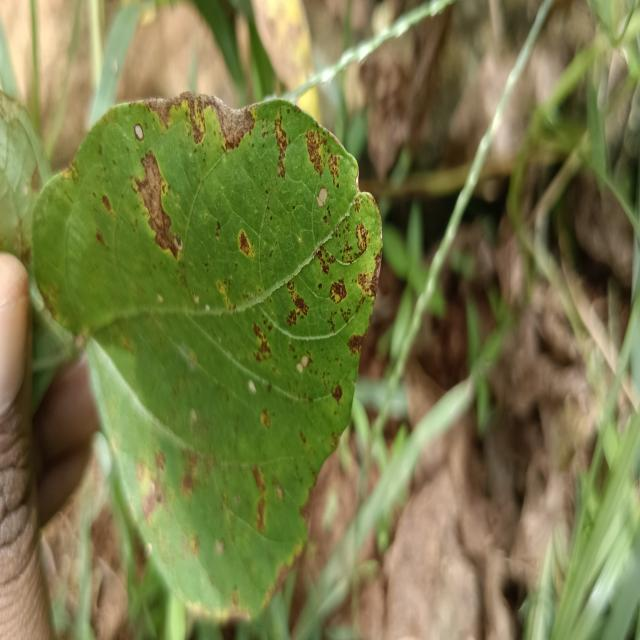Black gram_leaf spot: (29, 83, 388, 626)
